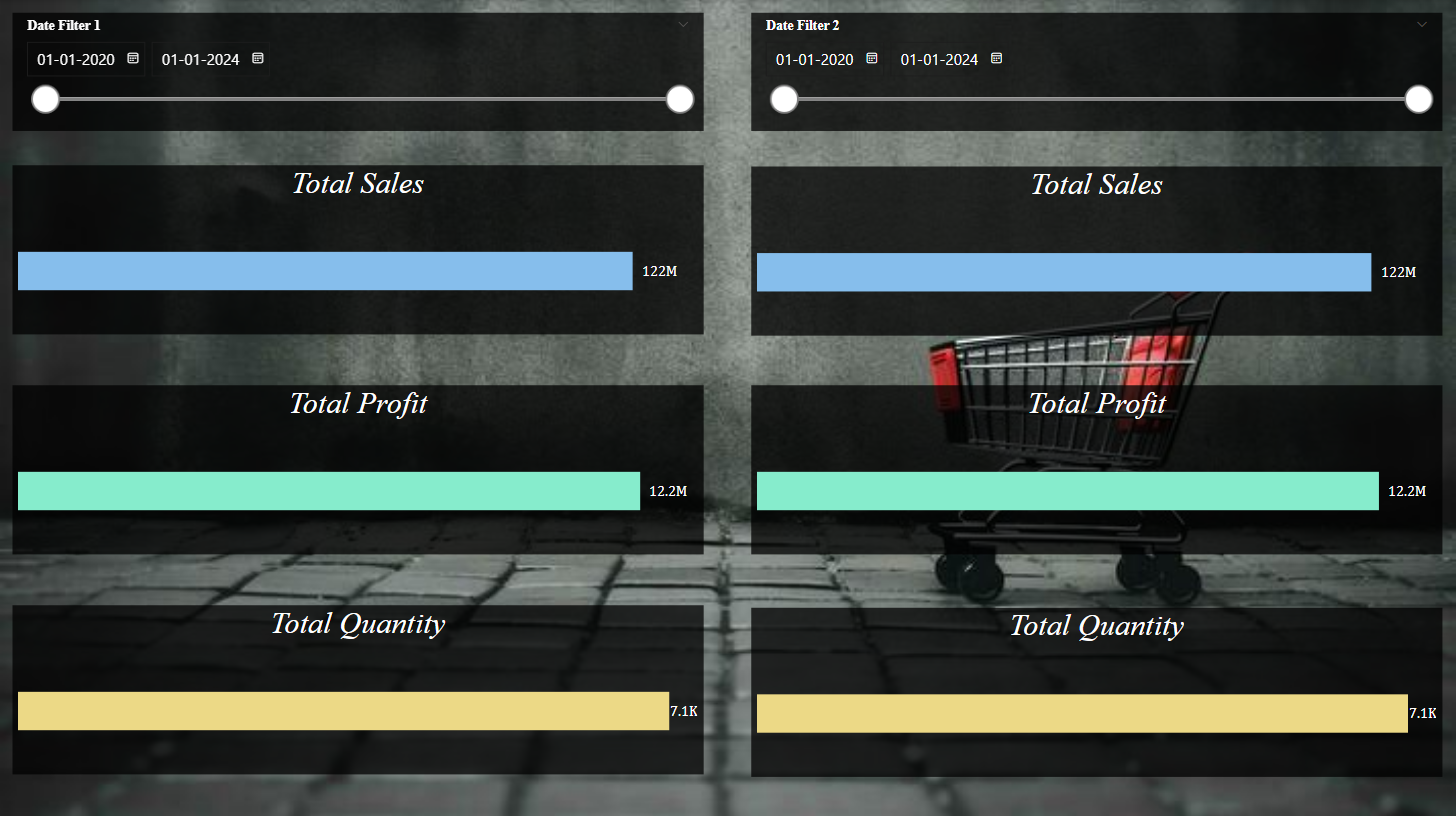

This screenshot's page, from the dashboard's own definition file:
{"tool":"powerbi","page":{"name":"Dynamic Comparison","canvas":[1280,720],"ordinal":4},"visuals":[{"type":"slicer","fields":{"Values":["Fact Table.Date (dd/mm/yyyy)"]},"box":[660.9,12.1,607.7,104.1],"z":0},{"type":"slicer","fields":{"Values":["Fact Table.Date (dd/mm/yyyy)"]},"box":[10.9,12.1,607.7,104.1],"z":1000},{"type":"clusteredBarChart","title":"Total Sales","fields":{"Y":["Sum(Fact Table.Net Sales)"]},"box":[10.9,146.5,607.7,148.9],"z":2000},{"type":"clusteredBarChart","title":"Total Profit","fields":{"Y":["Sum(Fact Table.Profit)"]},"box":[10.9,340.1,607.7,148.9],"z":3000},{"type":"clusteredBarChart","title":"Total Quantity","fields":{"Y":["Sum(Fact Table.Units Sold)"]},"box":[10.9,533.8,607.7,148.9],"z":4000},{"type":"clusteredBarChart","title":"Total Sales","fields":{"Y":["Sum(Fact Table.Net Sales)"]},"box":[660.9,147.7,607.7,148.9],"z":5000},{"type":"clusteredBarChart","title":"Total Profit","fields":{"Y":["Sum(Fact Table.Profit)"]},"box":[660.9,340.1,607.7,148.9],"z":6000},{"type":"clusteredBarChart","title":"Total Quantity","fields":{"Y":["Sum(Fact Table.Units Sold)"]},"box":[660.9,535,607.7,148.9],"z":7000}]}

Visuals, with their boxes in screenshot pixels (x1, y1, x2, y2), scaled from the page's 1280x720 canvas onto the 1456x816 screenshot:
slicer - Fact Table.Date (dd/mm/yyyy): <box>752,14,1443,132</box>
slicer - Fact Table.Date (dd/mm/yyyy): <box>12,14,704,132</box>
"Total Sales" clusteredBarChart: <box>12,166,704,335</box>
"Total Profit" clusteredBarChart: <box>12,385,704,554</box>
"Total Quantity" clusteredBarChart: <box>12,605,704,774</box>
"Total Sales" clusteredBarChart: <box>752,167,1443,336</box>
"Total Profit" clusteredBarChart: <box>752,385,1443,554</box>
"Total Quantity" clusteredBarChart: <box>752,606,1443,775</box>
